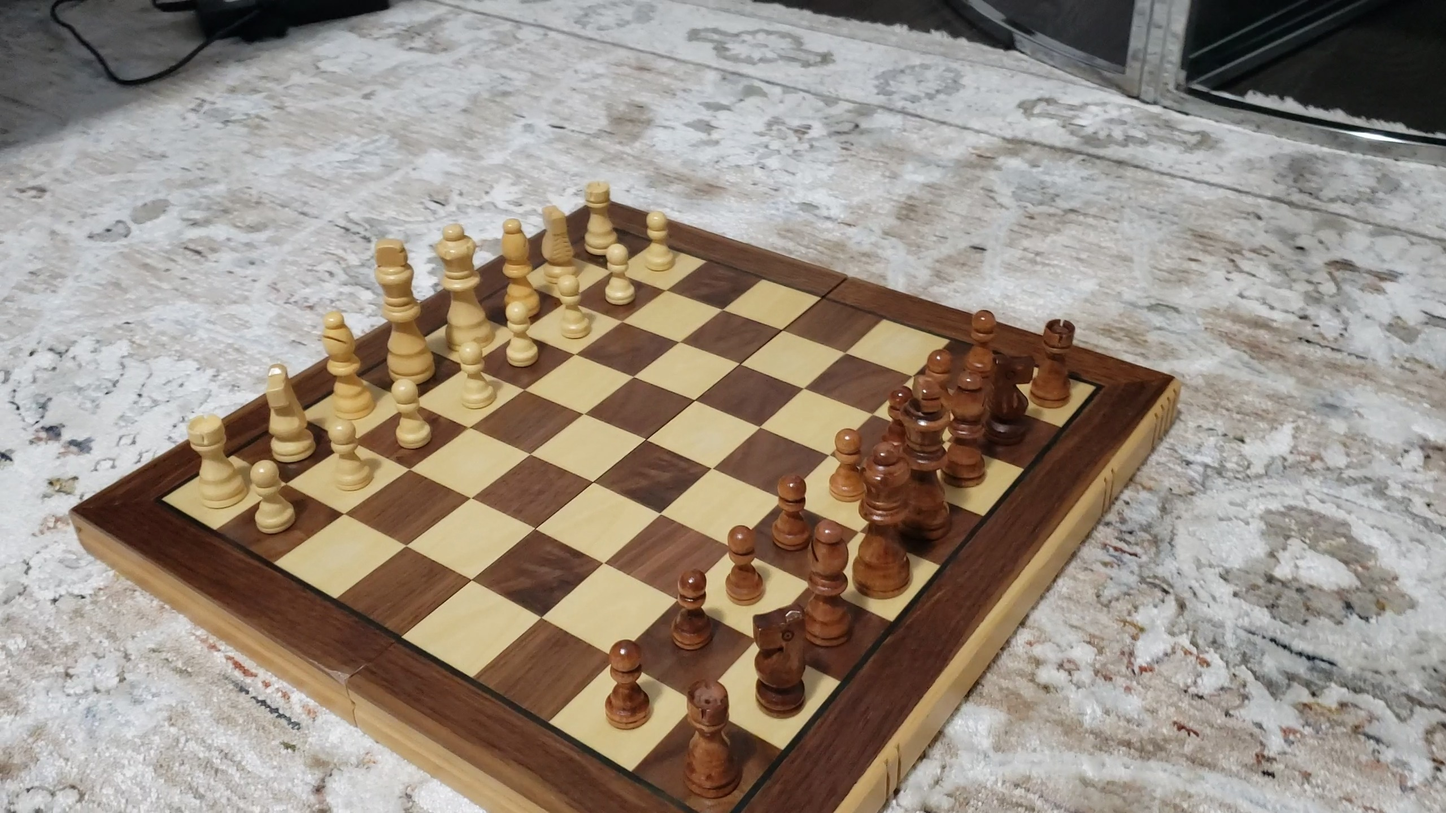black-bishop: (936, 369, 996, 496), (804, 517, 855, 649)
black-king: (891, 376, 962, 545)
black-knight: (751, 605, 809, 715), (983, 347, 1038, 447)
black-pawn: (600, 637, 652, 732), (668, 566, 716, 653), (721, 521, 765, 607), (961, 303, 1002, 390), (770, 471, 812, 555), (911, 344, 957, 417), (827, 425, 867, 502)
black-queen: (847, 438, 923, 598)
black-rook: (682, 677, 739, 799), (1027, 317, 1078, 406)
white-bishop: (317, 308, 374, 420), (498, 216, 540, 317)
white-king: (372, 231, 434, 389)
white-knight: (262, 362, 315, 465), (533, 199, 582, 294)
white-pawn: (318, 416, 381, 496), (242, 458, 303, 539), (447, 333, 503, 415), (546, 263, 599, 344), (384, 375, 437, 454), (497, 296, 545, 373), (596, 238, 641, 309), (637, 206, 679, 276)
white-queen: (434, 218, 489, 357)
white-rook: (185, 412, 248, 512), (581, 177, 620, 254)
